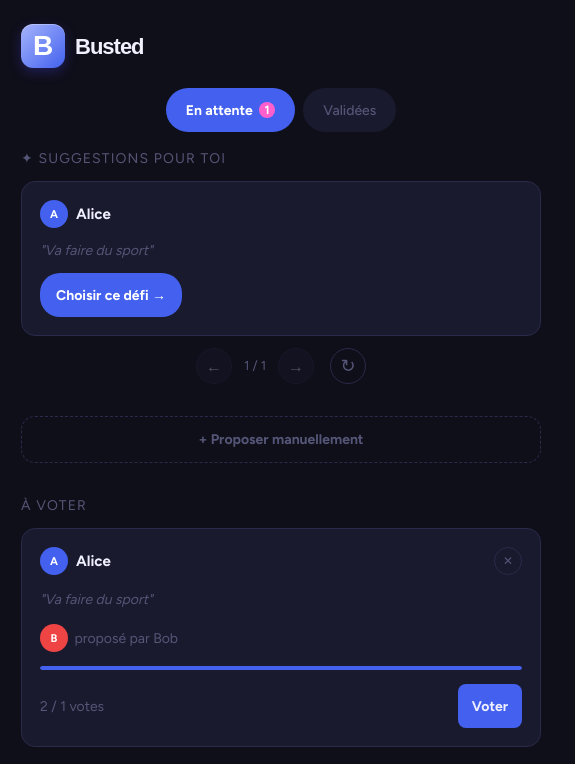
Test: Proposals — voting › shows approval toast when vote_count reaches threshold
What coordinates should you click on to do the following:
click the button "Voter"
I would click on:
 (490, 706)
Its box is [458, 684, 522, 728].
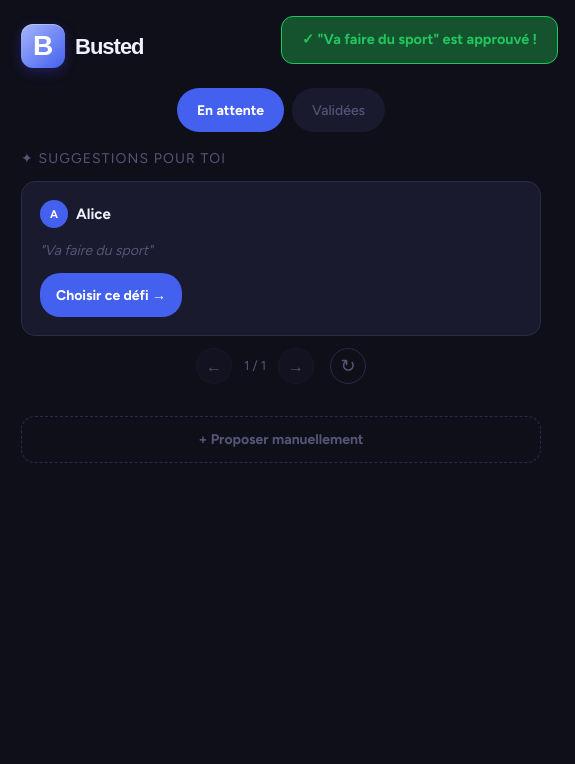
Expected: the text "✓ \"Va faire du sport\" est approuvé !" is shown, [281, 16, 558, 64]
